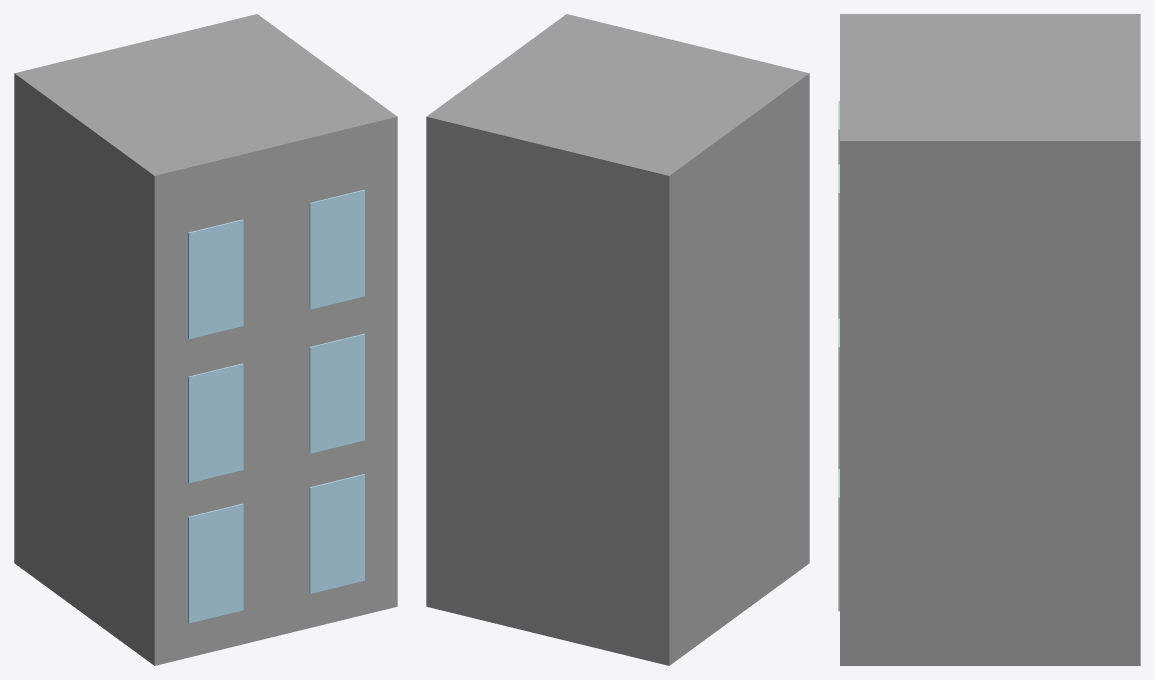
Rendered from testBuilding.fbx.
3 views of the same model, side by side, from view 1: azimuth 30°, elevation 25°; view 2: azimuth 150°, elevation 25°; view 3: azimuth 270°, elevation 25° (orthographic). The views are drawn at different scales.
Visible parts, largest first — view 1: Cube; view 2: Cube; view 3: Cube.
Part boxes in pixels (left/top/right/bottom): Cube: left=14, top=14, right=397, bottom=665; Cube: left=426, top=14, right=809, bottom=665; Cube: left=838, top=14, right=1140, bottom=665.
Bounding box in the file's own units: 878 × 1693 × 883.
